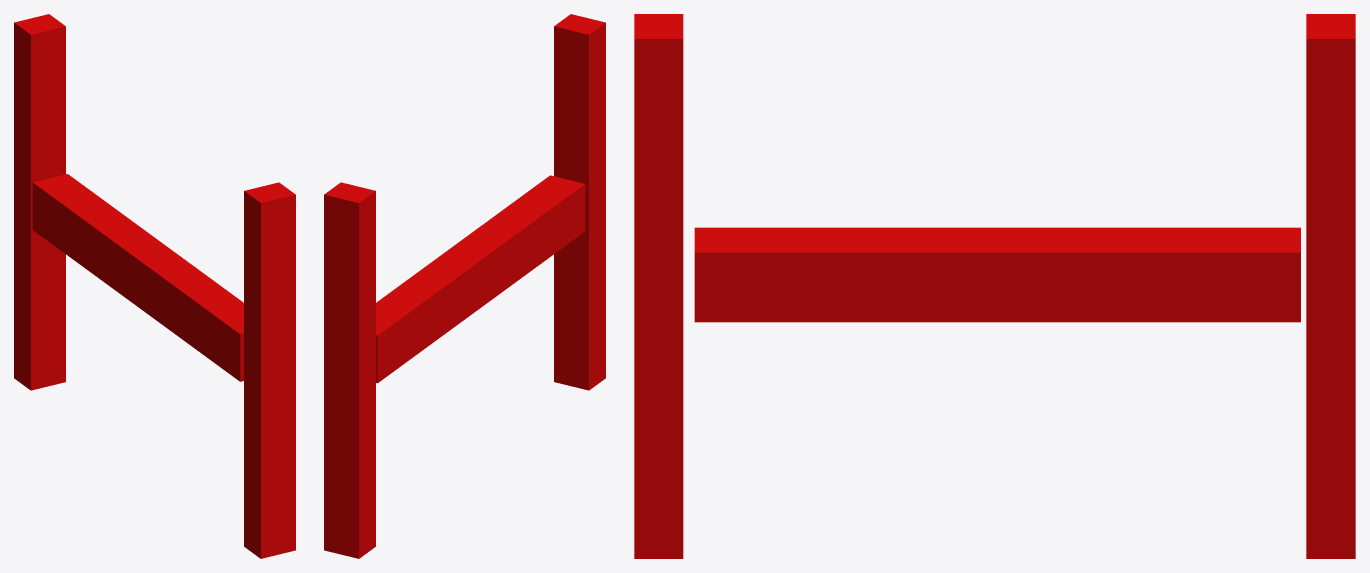
The model's file is Ladder.fbx.
3 views of the same model, side by side, from view 1: azimuth 30°, elevation 25°; view 2: azimuth 150°, elevation 25°; view 3: azimuth 270°, elevation 25° (orthographic). The views are drawn at different scales.
Visible parts, largest first — view 1: ladder:RoadKillOut; view 2: ladder:RoadKillOut; view 3: ladder:RoadKillOut.
Boxes of the visible parts, left/top/right/bottom form: ladder:RoadKillOut: left=14, top=14, right=295, bottom=558; ladder:RoadKillOut: left=324, top=14, right=605, bottom=558; ladder:RoadKillOut: left=634, top=14, right=1355, bottom=558.
Size of the model in its own units: 5.91 by 57.43 by 72.19.
